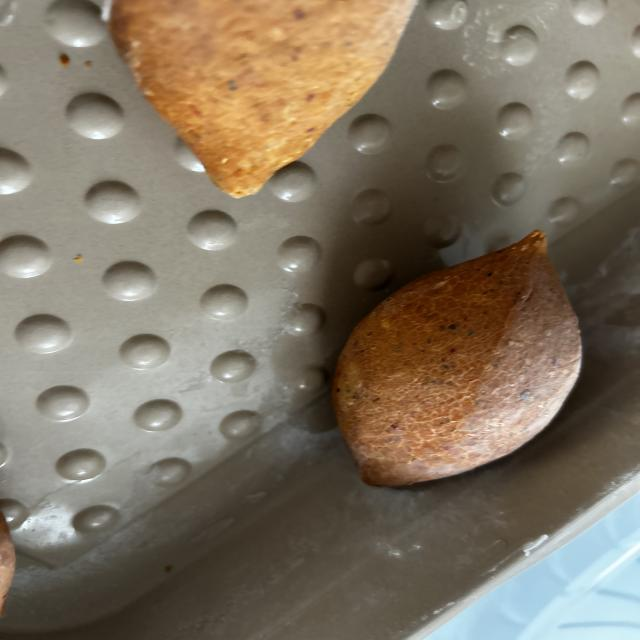kobi: (331, 228, 583, 488), (108, 0, 418, 199)
